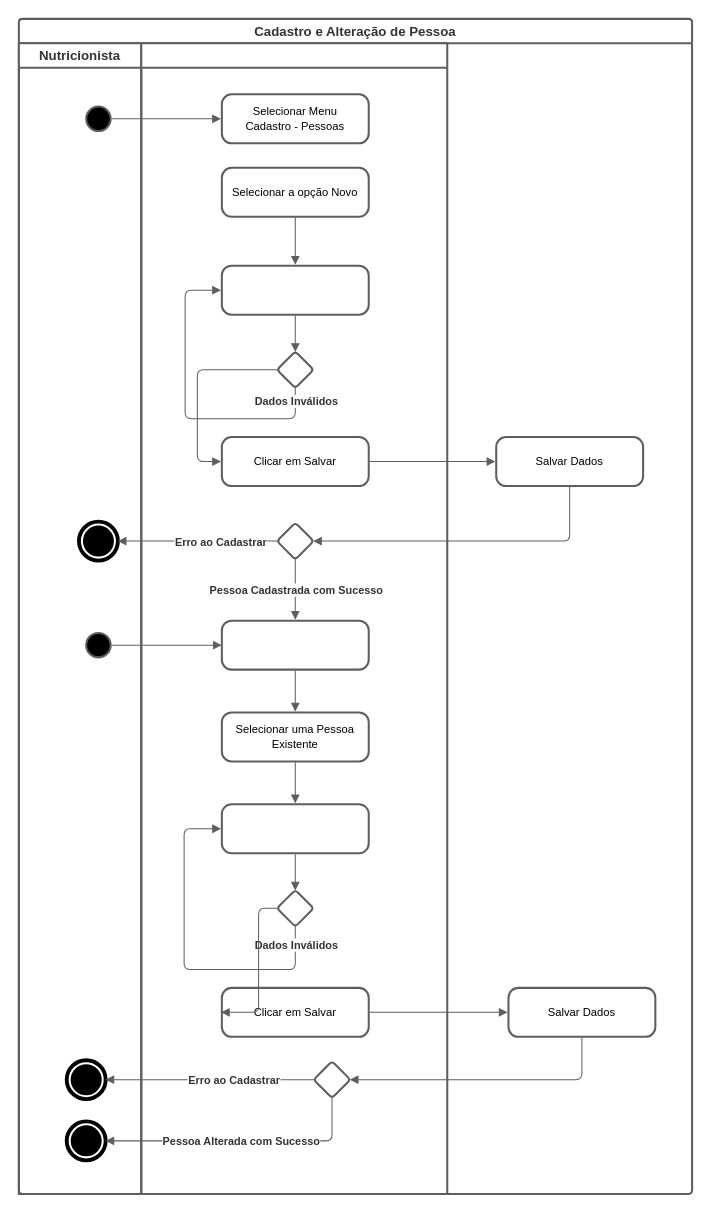
This 710x1212 diagram has some shape labels left out. Here are the shapes that lost their labels. From the top down, the box of each, then its label:
(220, 264, 369, 315): Preencher os Dados do Formulário
(140, 42, 448, 1194): Sistema
(220, 619, 369, 670): Listar Pessoa
(220, 803, 369, 854): Editar os Dados da Pessoa
